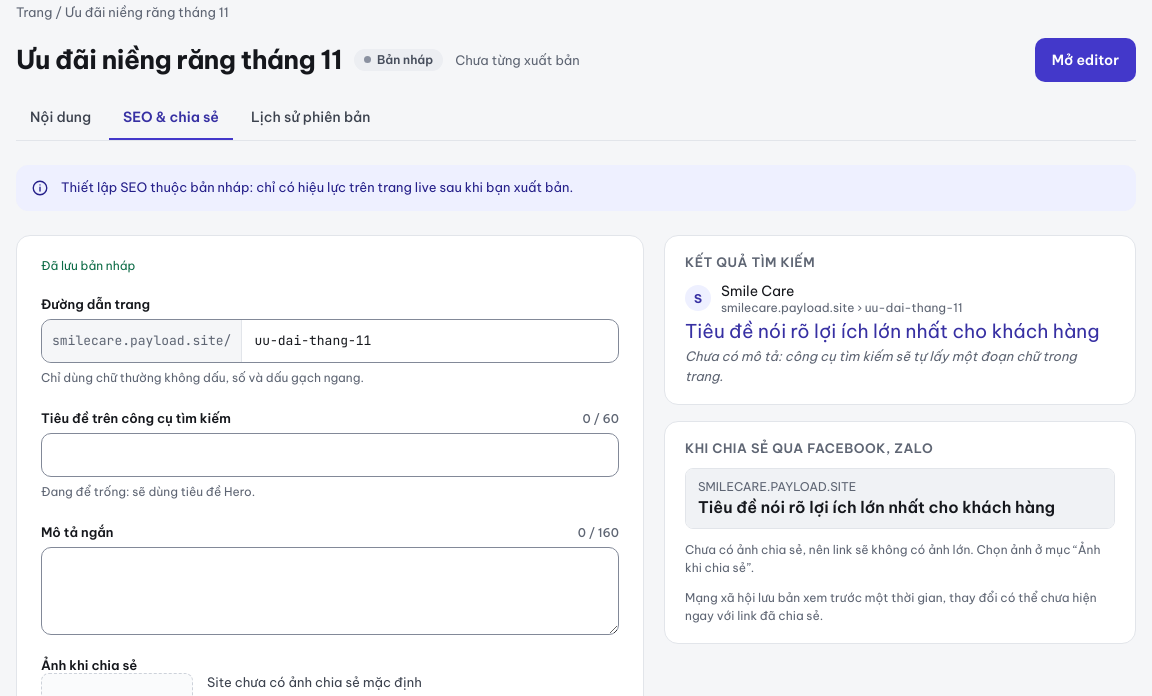
SeoScreen › previews the search result from the draft as it is typed
Expected: the text "Smile Care" is shown, [721, 282, 794, 300]
Expected: the text "smilecare.payload.site › uu-dai-thang-11" is shown, [721, 300, 963, 314]
Type "Niềng răng trong suốt" into the field labelled "Tiêu đề trên công cụ tìm kiếm".
click(330, 455); type("Niềng răng trong suốt")  # box [42, 434, 618, 476]
(page scrolled)
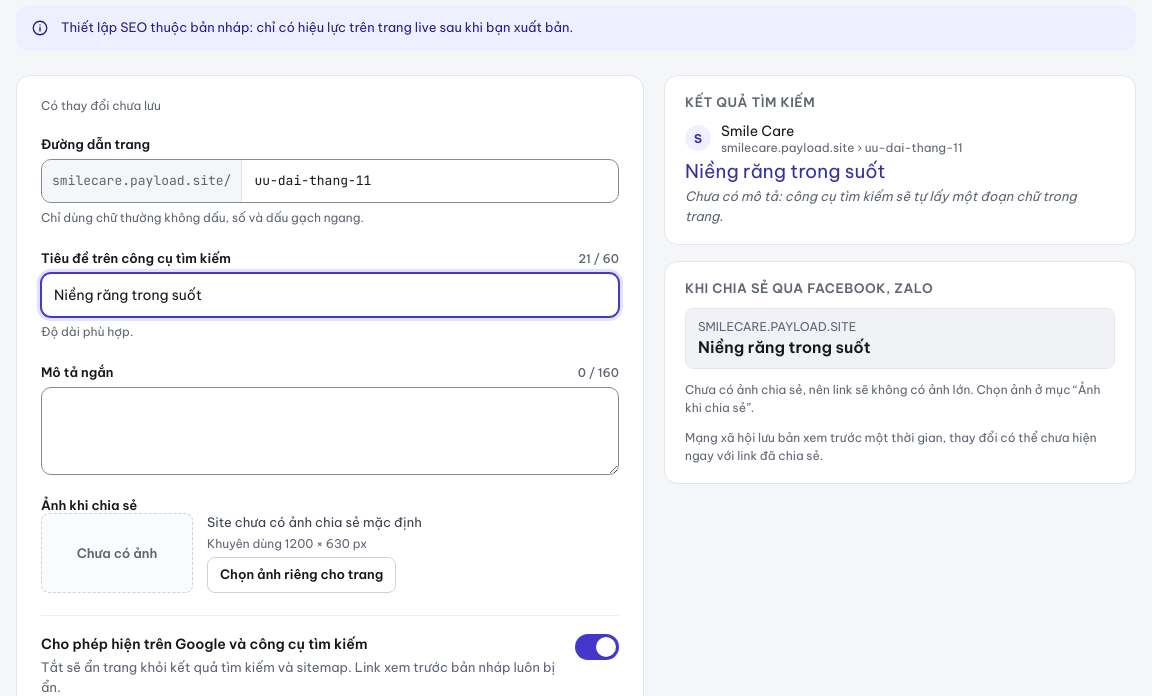
Expected: the text "Niềng răng trong suốt" below "smilecare.payload.site › uu-dai-thang-11" is shown, [685, 158, 886, 182]
Click the switch named "Cho phép hiện trên Google và công cụ tìm kiếm".
click(597, 647)  # box [575, 634, 619, 660]
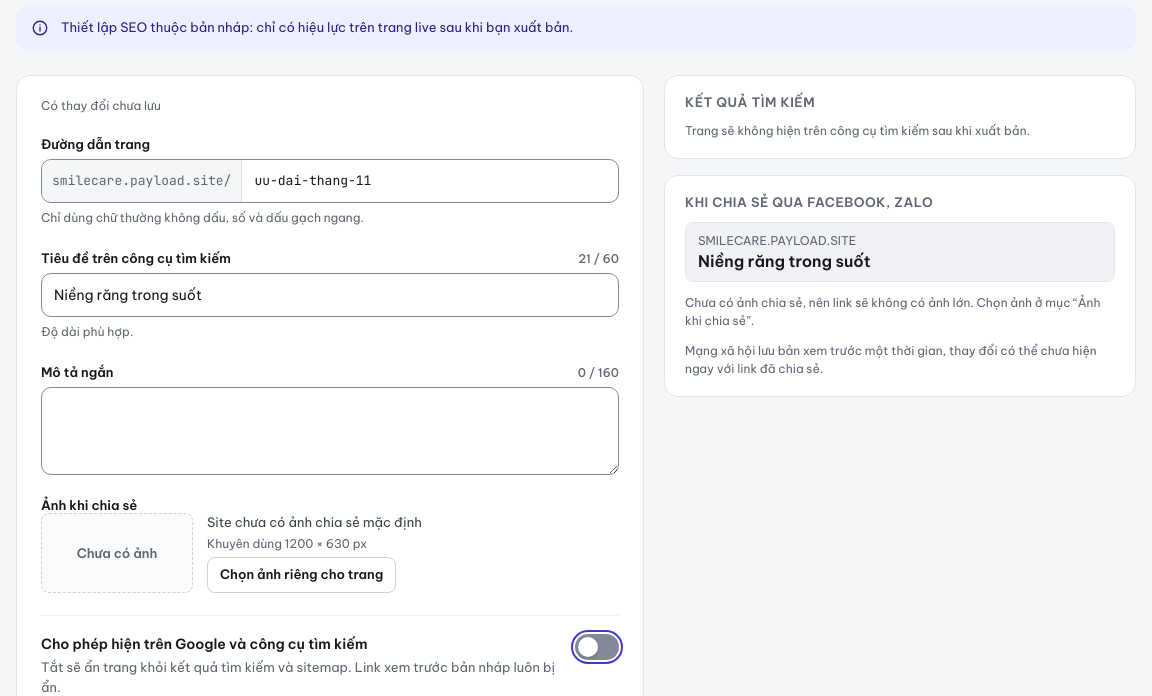
Expected: the text "Trang sẽ không hiện trên công cụ tìm kiếm sau khi xuất bản." is shown, [685, 122, 1030, 138]
